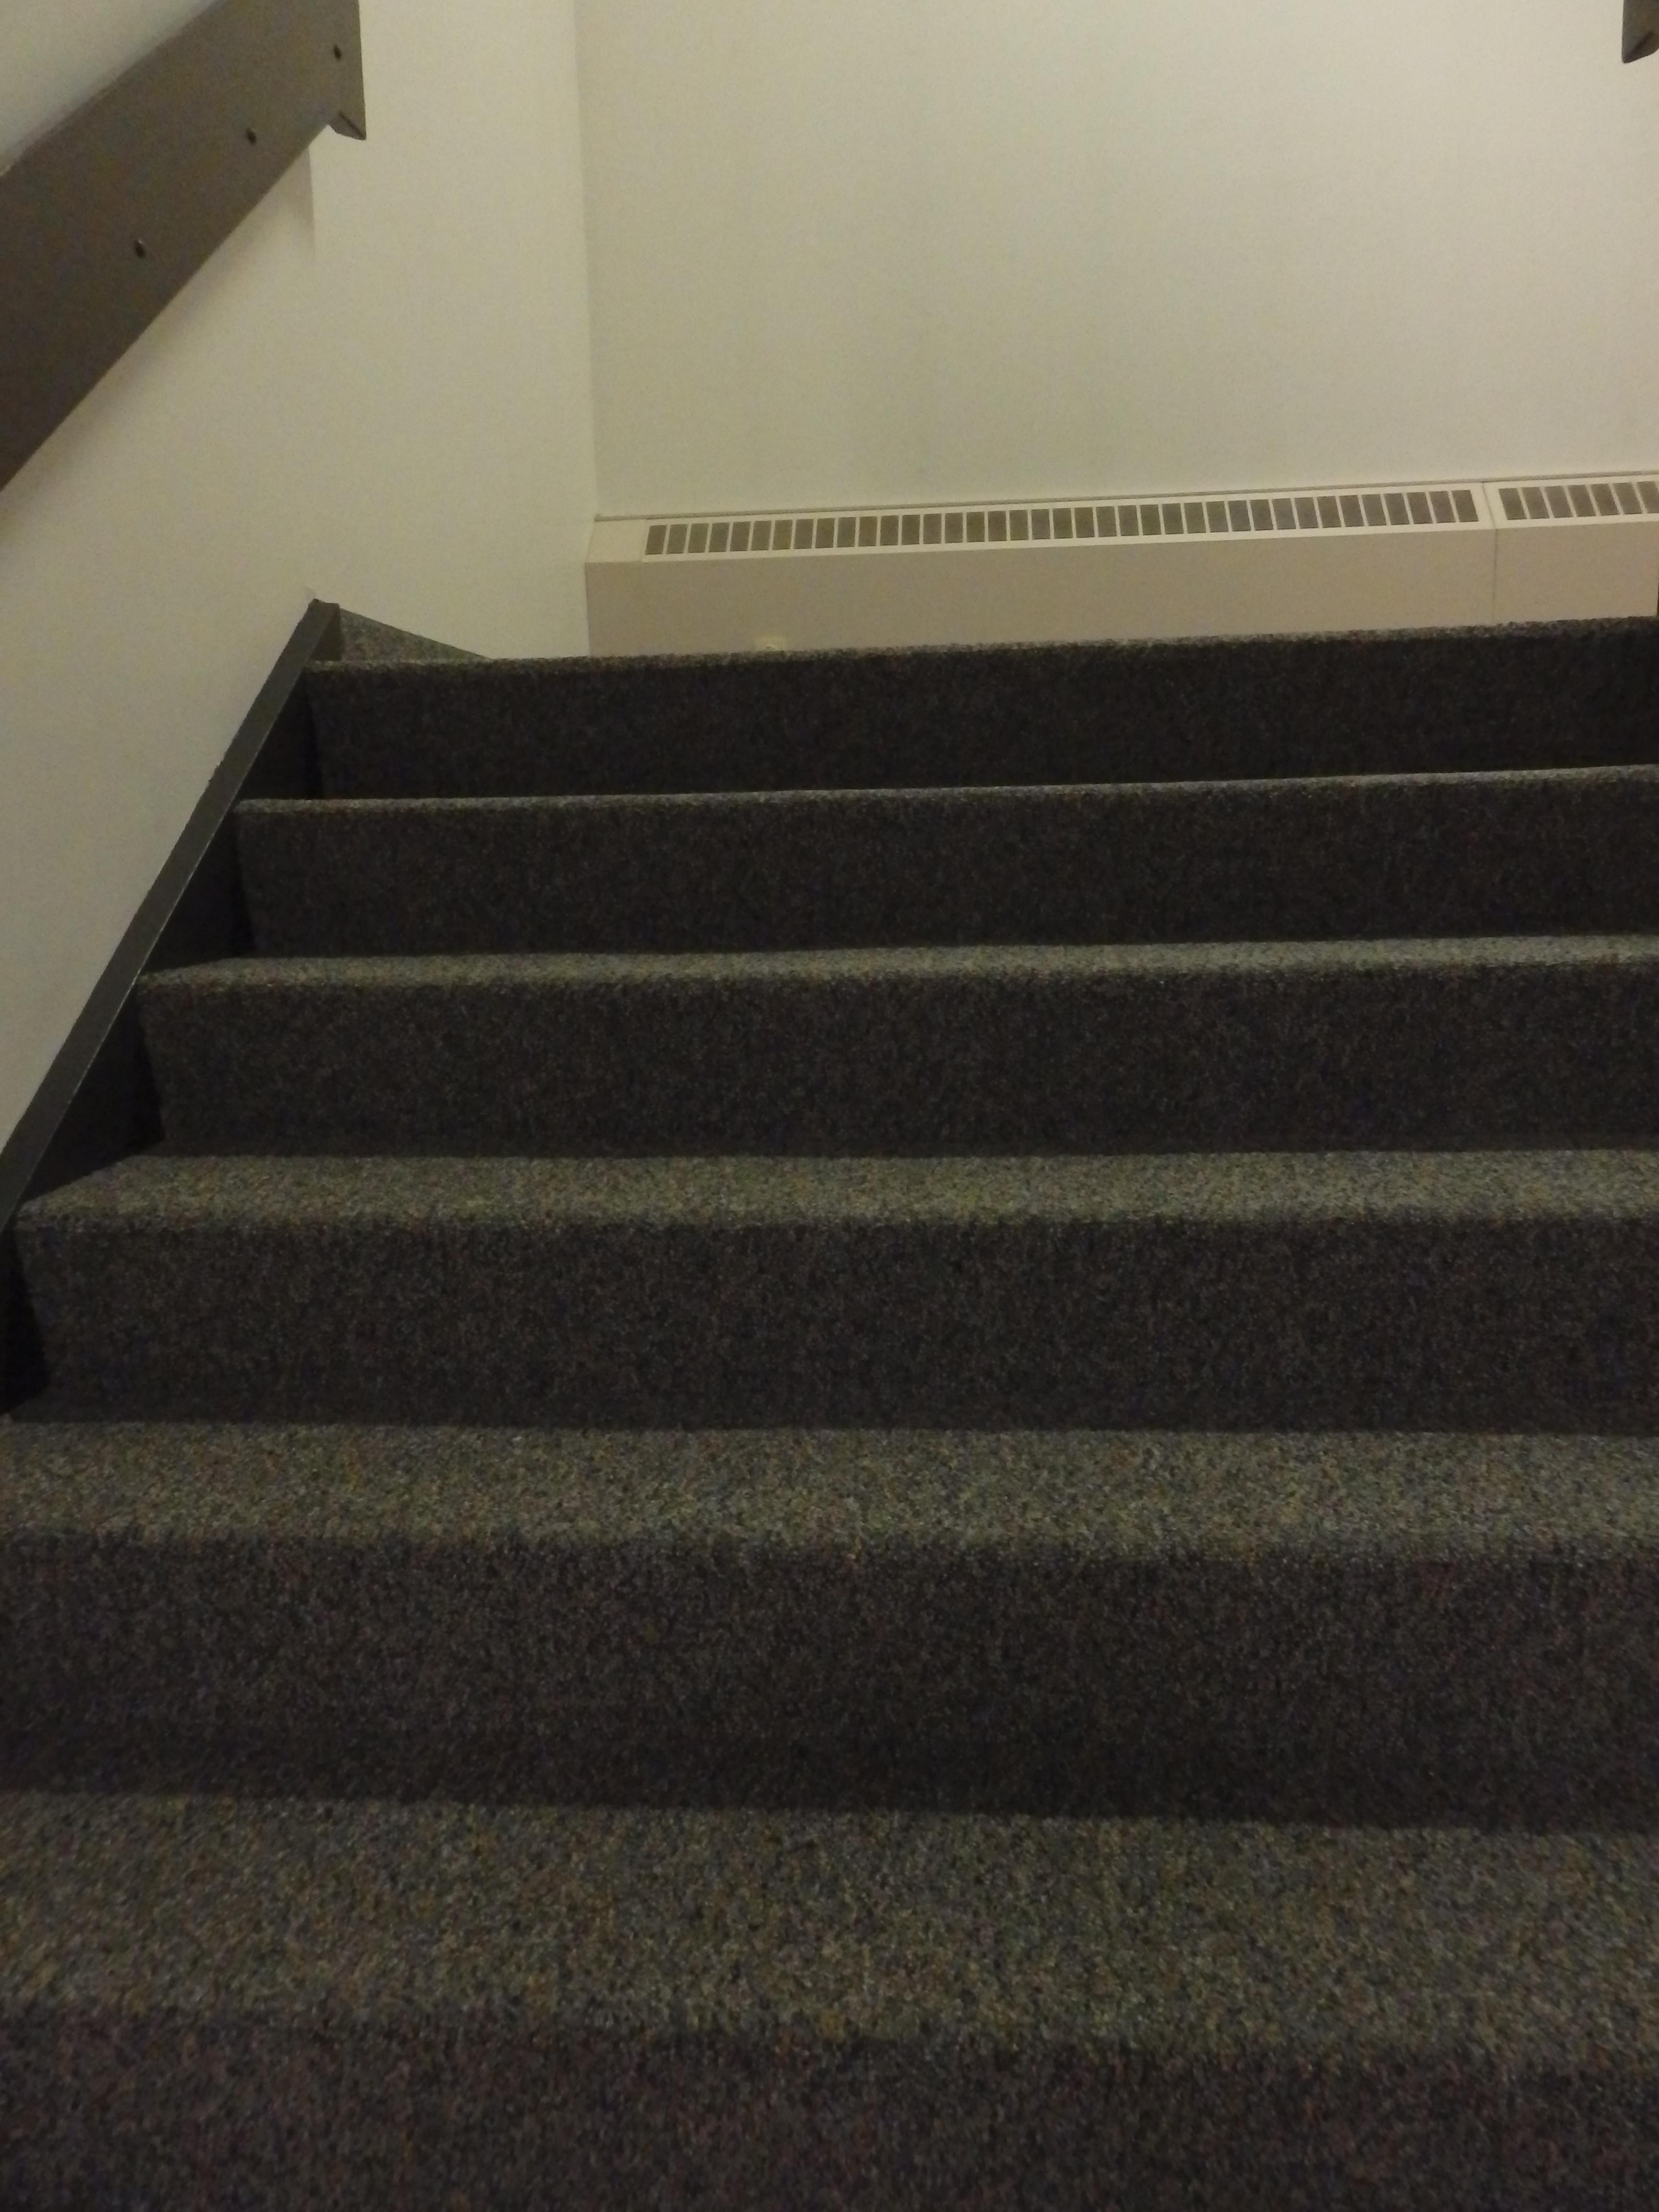stairs_up: (118, 625, 1659, 2094)
